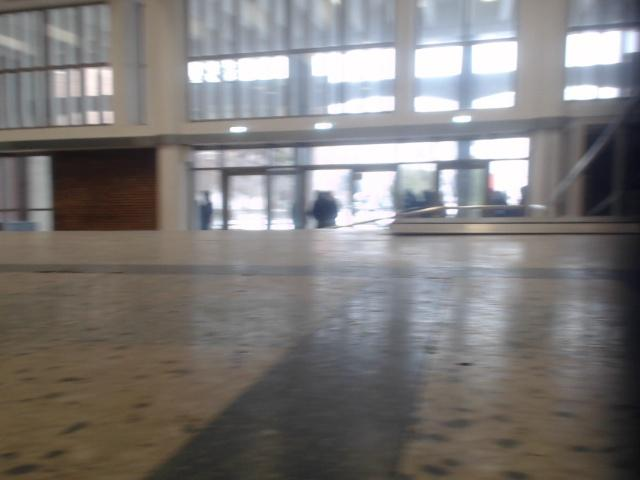rampDown: (389, 213, 639, 234)
ramps-railing: (392, 93, 639, 225)
